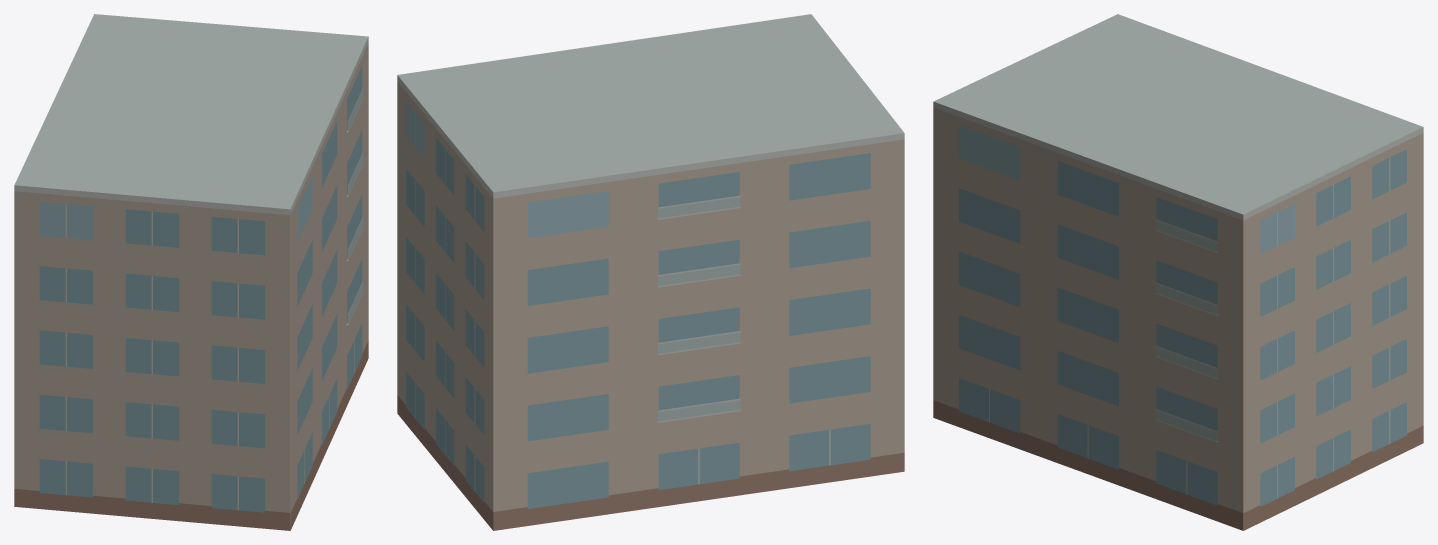
File: survey-upis-32526446.glb
3 views of the same model, side by side, from view 1: azimuth 30°, elevation 25°; view 2: azimuth 150°, elevation 25°; view 3: azimuth 270°, elevation 25° (orthographic). The views are drawn at different scales.
Parts seen in each view (by area): view 1: survey-upis-32526446.tmp; view 2: survey-upis-32526446.tmp; view 3: survey-upis-32526446.tmp.
Part boxes in pixels (bbox=[...]): survey-upis-32526446.tmp: bbox=[14, 14, 368, 530]; survey-upis-32526446.tmp: bbox=[397, 14, 904, 530]; survey-upis-32526446.tmp: bbox=[933, 14, 1423, 530].
Size of the model in its own units: 18.11 by 13.3 by 18.69.
